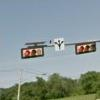Traffic light: (12, 41, 100, 63)
